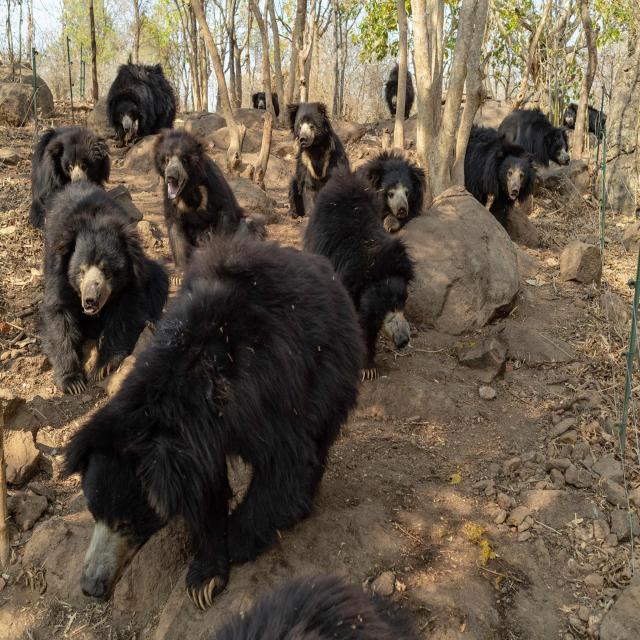Bear: (61, 223, 366, 608), (39, 181, 172, 393), (302, 144, 412, 368), (153, 131, 247, 286), (31, 127, 113, 237), (464, 127, 536, 234), (288, 102, 350, 223), (103, 63, 178, 151), (360, 155, 428, 237), (499, 108, 571, 167), (382, 60, 413, 123), (569, 98, 612, 140), (253, 92, 266, 112)
